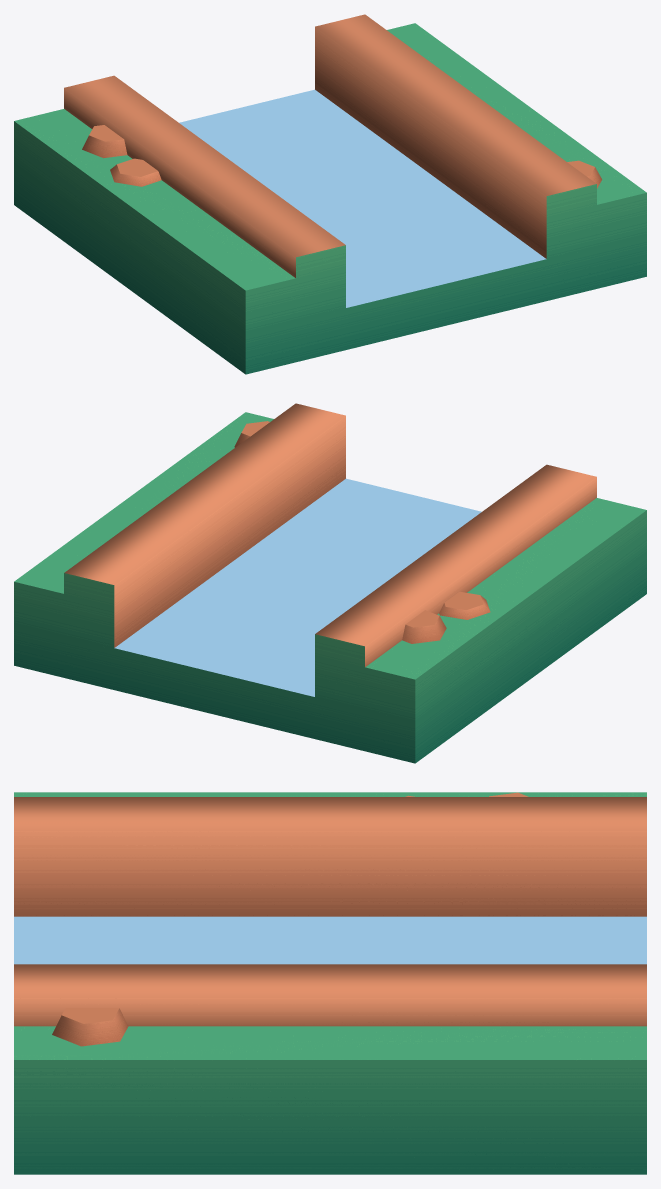
Rendered from tile-river-straight.glb.
3 renders of one model, top to bottom at view 1: azimuth 30°, elevation 25°; view 2: azimuth 150°, elevation 25°; view 3: azimuth 270°, elevation 25°, orthographic. The views are drawn at different scales.
Parts seen in each view (by area): view 1: tile-river-straight; view 2: tile-river-straight; view 3: tile-river-straight.
Part boxes in pixels (bbox=[...]): tile-river-straight: bbox=[14, 14, 646, 374]; tile-river-straight: bbox=[14, 403, 646, 763]; tile-river-straight: bbox=[14, 792, 646, 1174].
Bounding box in the file's own units: 3 × 0.75 × 3.
Materials: 1 (1 with a texture image).
